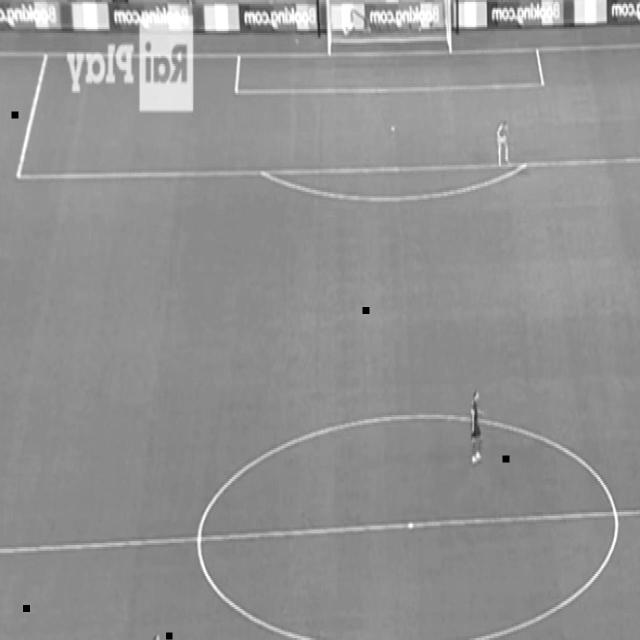player-white: (470, 388, 484, 465), (496, 119, 510, 165), (145, 632, 165, 640)
